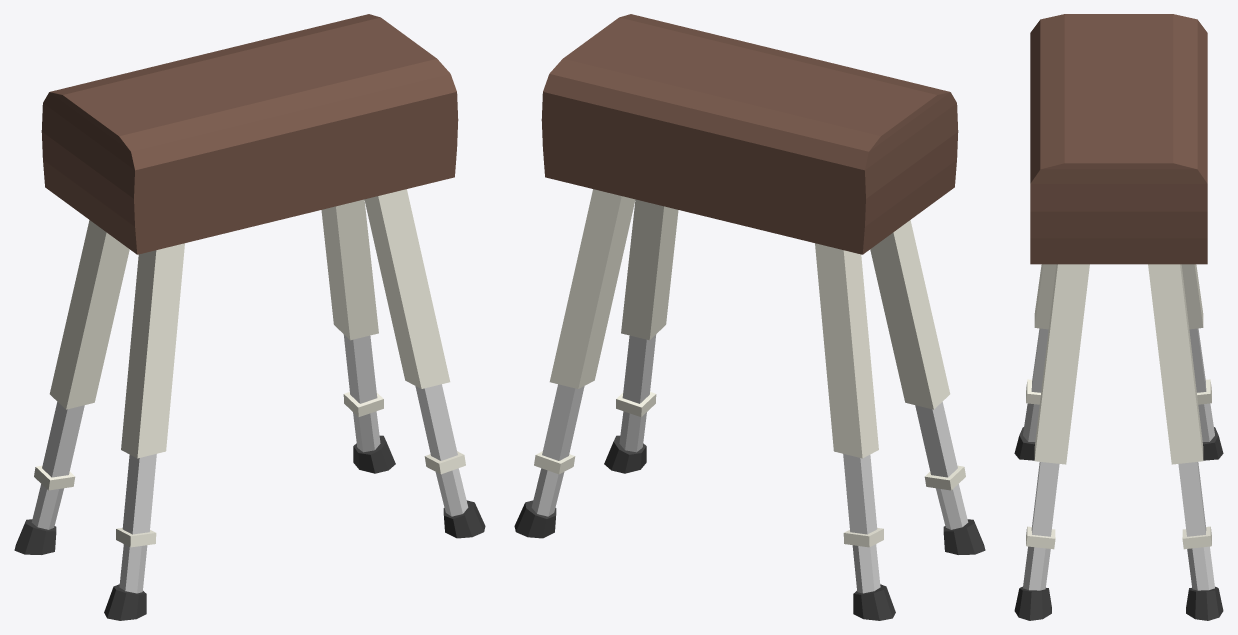
The model's file is Bok02_LOD0.fbx.
The picture shows the model from 3 angles, left to right: view 1: azimuth 30°, elevation 25°; view 2: azimuth 150°, elevation 25°; view 3: azimuth 270°, elevation 25°; orthographic projection. The views are drawn at different scales.
Visible parts, largest first — view 1: Bok02_LOD0; view 2: Bok02_LOD0; view 3: Bok02_LOD0.
Boxes of the visible parts, bbox=[...] form: Bok02_LOD0: bbox=[14, 14, 485, 620]; Bok02_LOD0: bbox=[514, 14, 985, 620]; Bok02_LOD0: bbox=[1014, 14, 1223, 620].
Size of the model in its own units: 1.18 by 1.37 by 0.5861.
